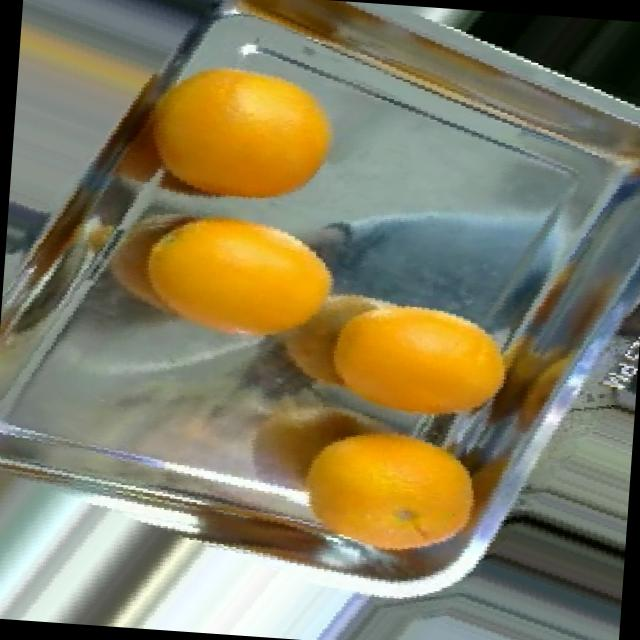Fruit: (126, 190, 365, 372), (121, 61, 357, 228), (300, 276, 534, 442)
